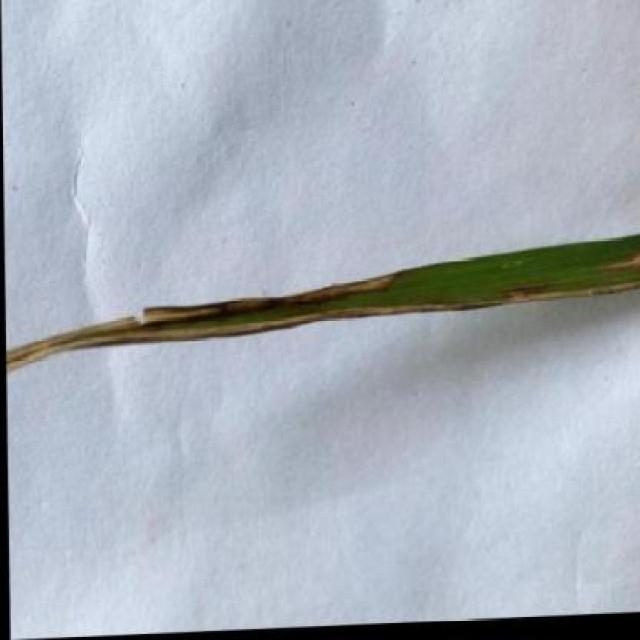Brown_Spot: (3, 233, 640, 379)
